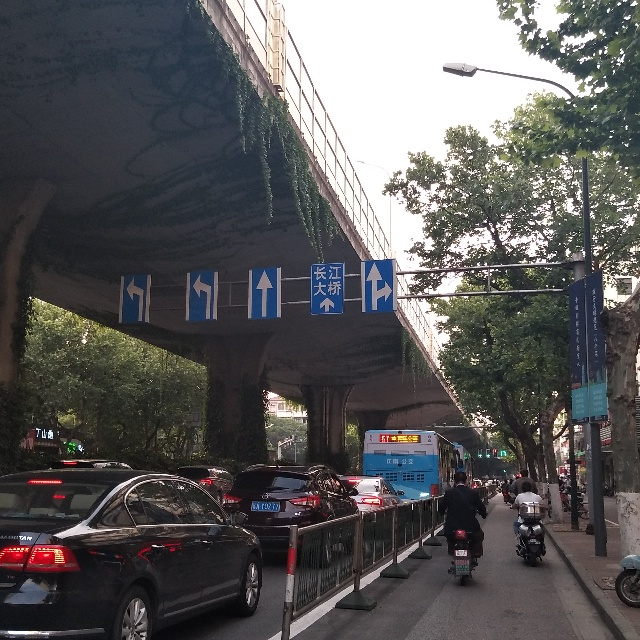left: (118, 274, 152, 324), (185, 271, 218, 321)
straight: (247, 267, 282, 319)
